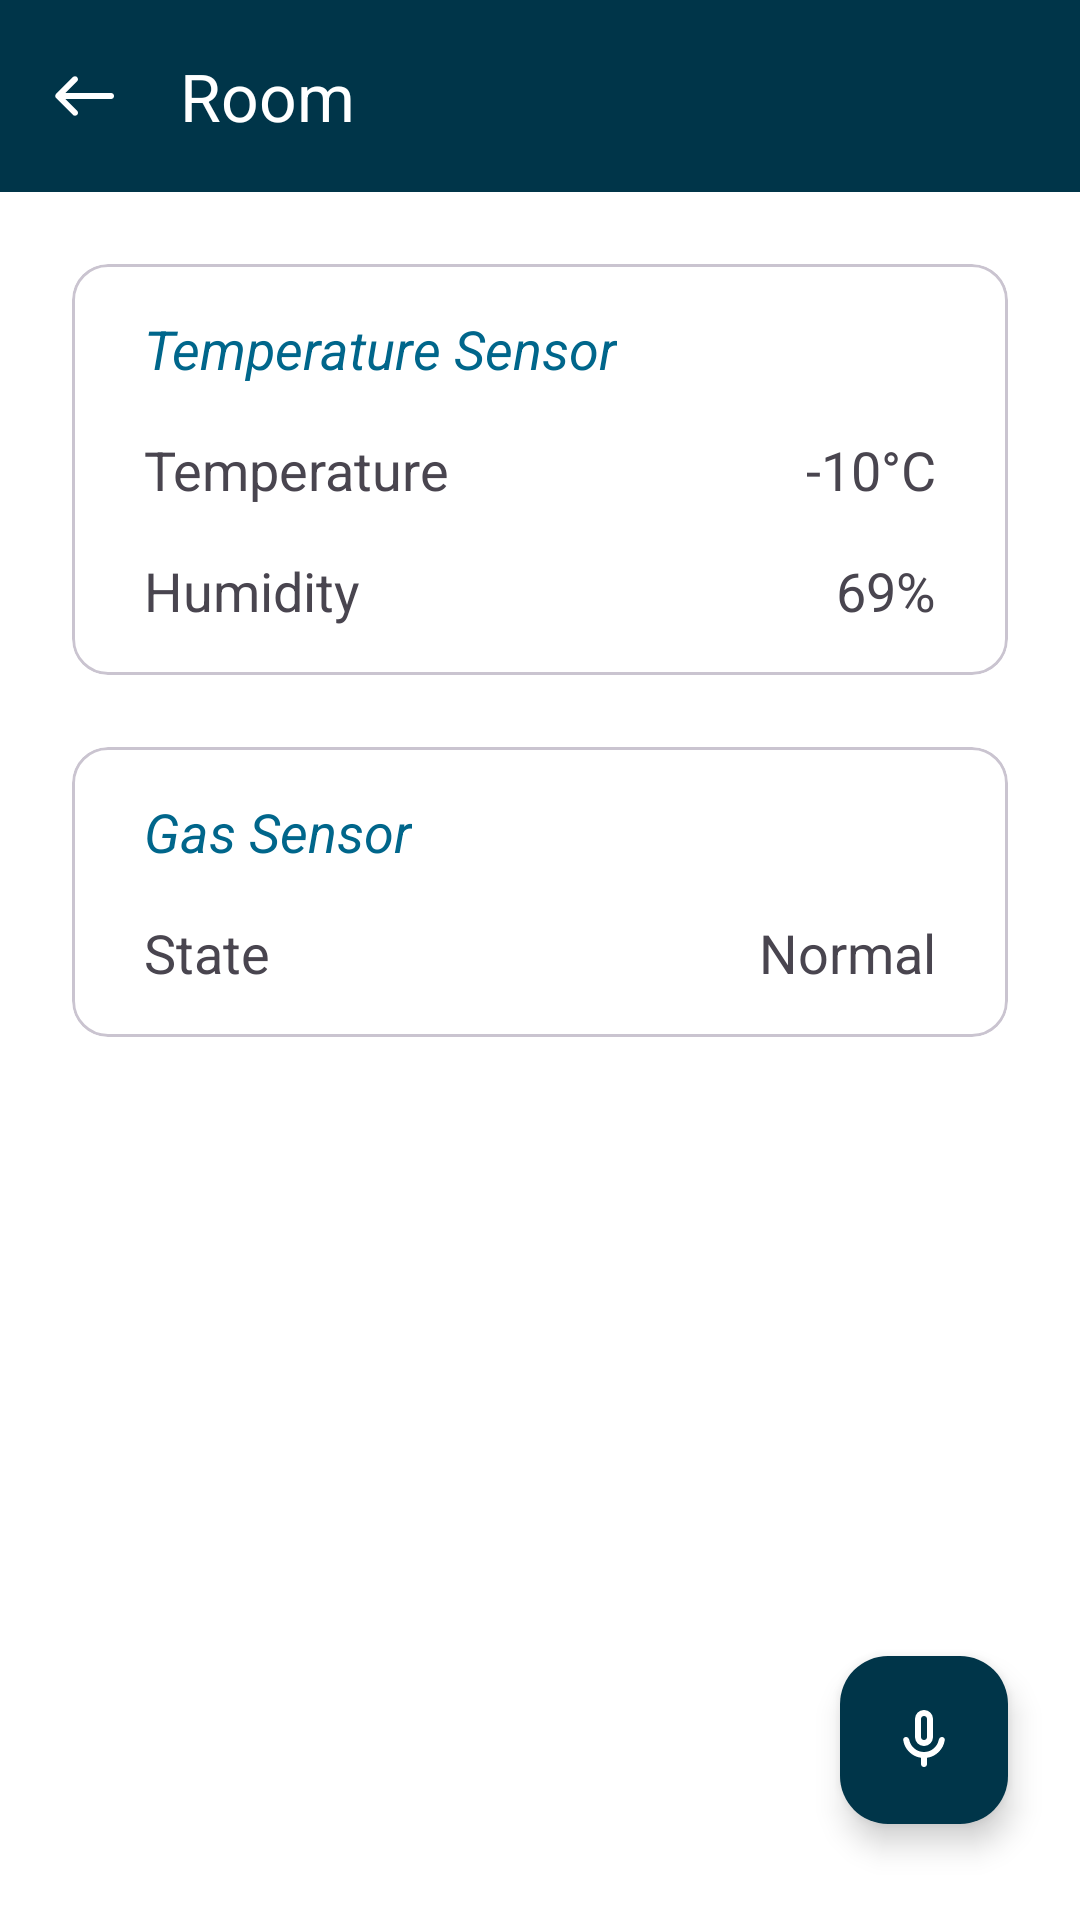

Icons on this 1080*1920 Android screen, each with its box as (x1, y1, x2, y2):
mic: (840, 1656, 1008, 1824)
